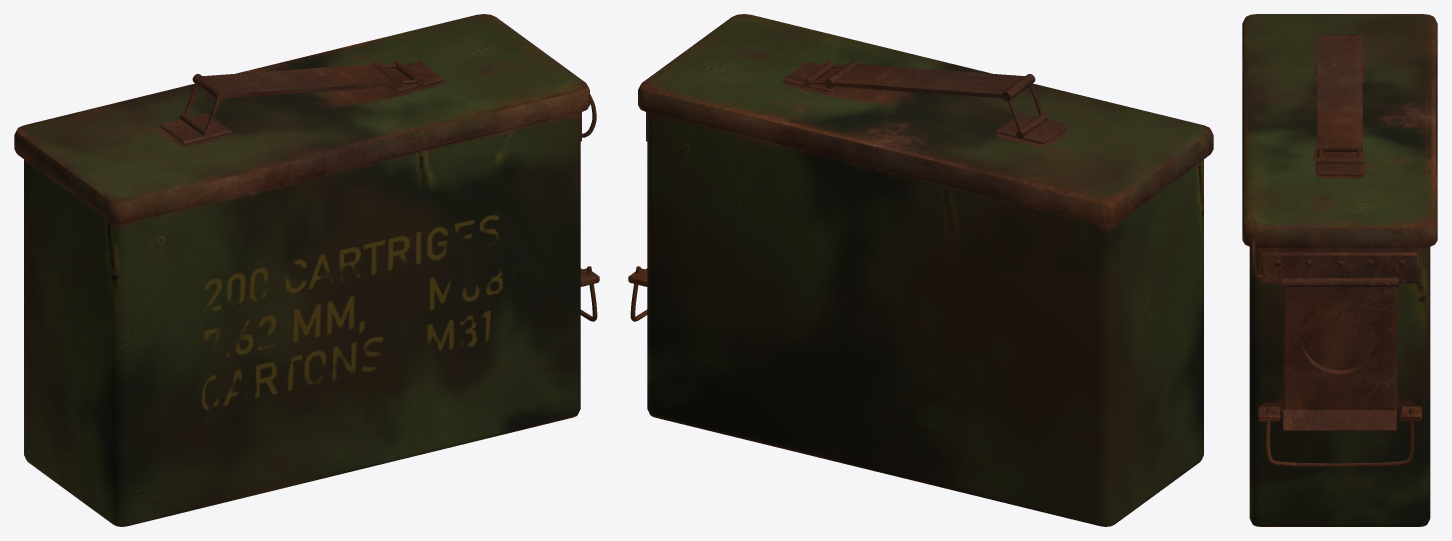
Rendered from ammo-box_final.glb.
3 views of the same model, side by side, from view 1: azimuth 30°, elevation 25°; view 2: azimuth 150°, elevation 25°; view 3: azimuth 270°, elevation 25° (orthographic). The views are drawn at different scales.
Parts seen in each view (by area): view 1: SM_AmmoBox_Body, SM_AmmoBox_Lid, SM_AmmoBox_Handle, SM_AmmoBox_HandleBrackets; view 2: SM_AmmoBox_Body, SM_AmmoBox_Lid, SM_AmmoBox_Handle, SM_AmmoBox_HandleBrackets; view 3: SM_AmmoBox_Lid, SM_AmmoBox_Body, SM_AmmoBox_LatchLever, SM_AmmoBox_LatchStrip, SM_AmmoBox_Handle, SM_AmmoBox_LatchBail, SM_AmmoBox_HandleBrackets, SM_AmmoBox_BailEars.
Part boxes in pixels (box(x1,y1,x2,y2)): SM_AmmoBox_Body: box(24, 112, 580, 526); SM_AmmoBox_Lid: box(14, 14, 589, 223); SM_AmmoBox_Handle: box(192, 61, 403, 101); SM_AmmoBox_HandleBrackets: box(159, 61, 445, 144); SM_AmmoBox_Body: box(647, 112, 1203, 526); SM_AmmoBox_Lid: box(638, 14, 1213, 223); SM_AmmoBox_Handle: box(824, 61, 1035, 101); SM_AmmoBox_HandleBrackets: box(782, 61, 1068, 144); SM_AmmoBox_Lid: box(1242, 14, 1437, 247); SM_AmmoBox_Body: box(1249, 247, 1430, 526); SM_AmmoBox_LatchLever: box(1283, 287, 1396, 430); SM_AmmoBox_LatchStrip: box(1261, 252, 1418, 287); SM_AmmoBox_Handle: box(1317, 35, 1362, 151); SM_AmmoBox_LatchBail: box(1265, 407, 1414, 467); SM_AmmoBox_HandleBrackets: box(1317, 152, 1362, 175); SM_AmmoBox_BailEars: box(1258, 406, 1421, 421).
Size of the model in its own units: 0.291 by 0.2106 by 0.107.
2 materials, 2 textured.
